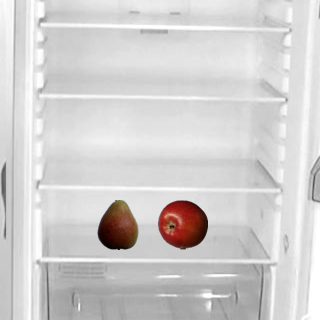Apple Braeburn: (157, 199, 207, 249)
Pear Forelle: (92, 199, 142, 249)
